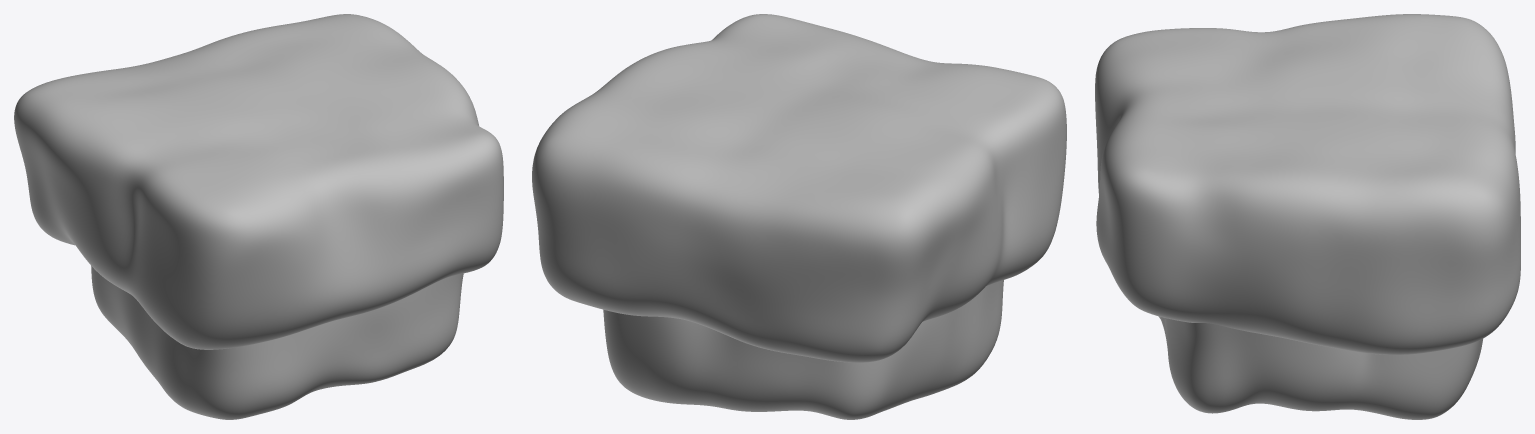
The model's file is RockUnderPlatforms_Group_2.fbx.
The picture shows the model from 3 angles, left to right: view 1: azimuth 30°, elevation 25°; view 2: azimuth 150°, elevation 25°; view 3: azimuth 270°, elevation 25°; orthographic projection. The views are drawn at different scales.
Visible parts, largest first — view 1: RockUnderPlatforms_2_LP:RockUnderPlatforms_2_LP:ZBrushPolyMe; view 2: RockUnderPlatforms_2_LP:RockUnderPlatforms_2_LP:ZBrushPolyMe; view 3: RockUnderPlatforms_2_LP:RockUnderPlatforms_2_LP:ZBrushPolyMe.
Boxes of the visible parts, x1=… form: RockUnderPlatforms_2_LP:RockUnderPlatforms_2_LP:ZBrushPolyMe: x1=14, y1=14, x2=503, y2=419; RockUnderPlatforms_2_LP:RockUnderPlatforms_2_LP:ZBrushPolyMe: x1=532, y1=14, x2=1066, y2=419; RockUnderPlatforms_2_LP:RockUnderPlatforms_2_LP:ZBrushPolyMe: x1=1095, y1=14, x2=1520, y2=419.
Size of the model in its own units: 989 by 658 by 931.
1 material, 1 textured.
